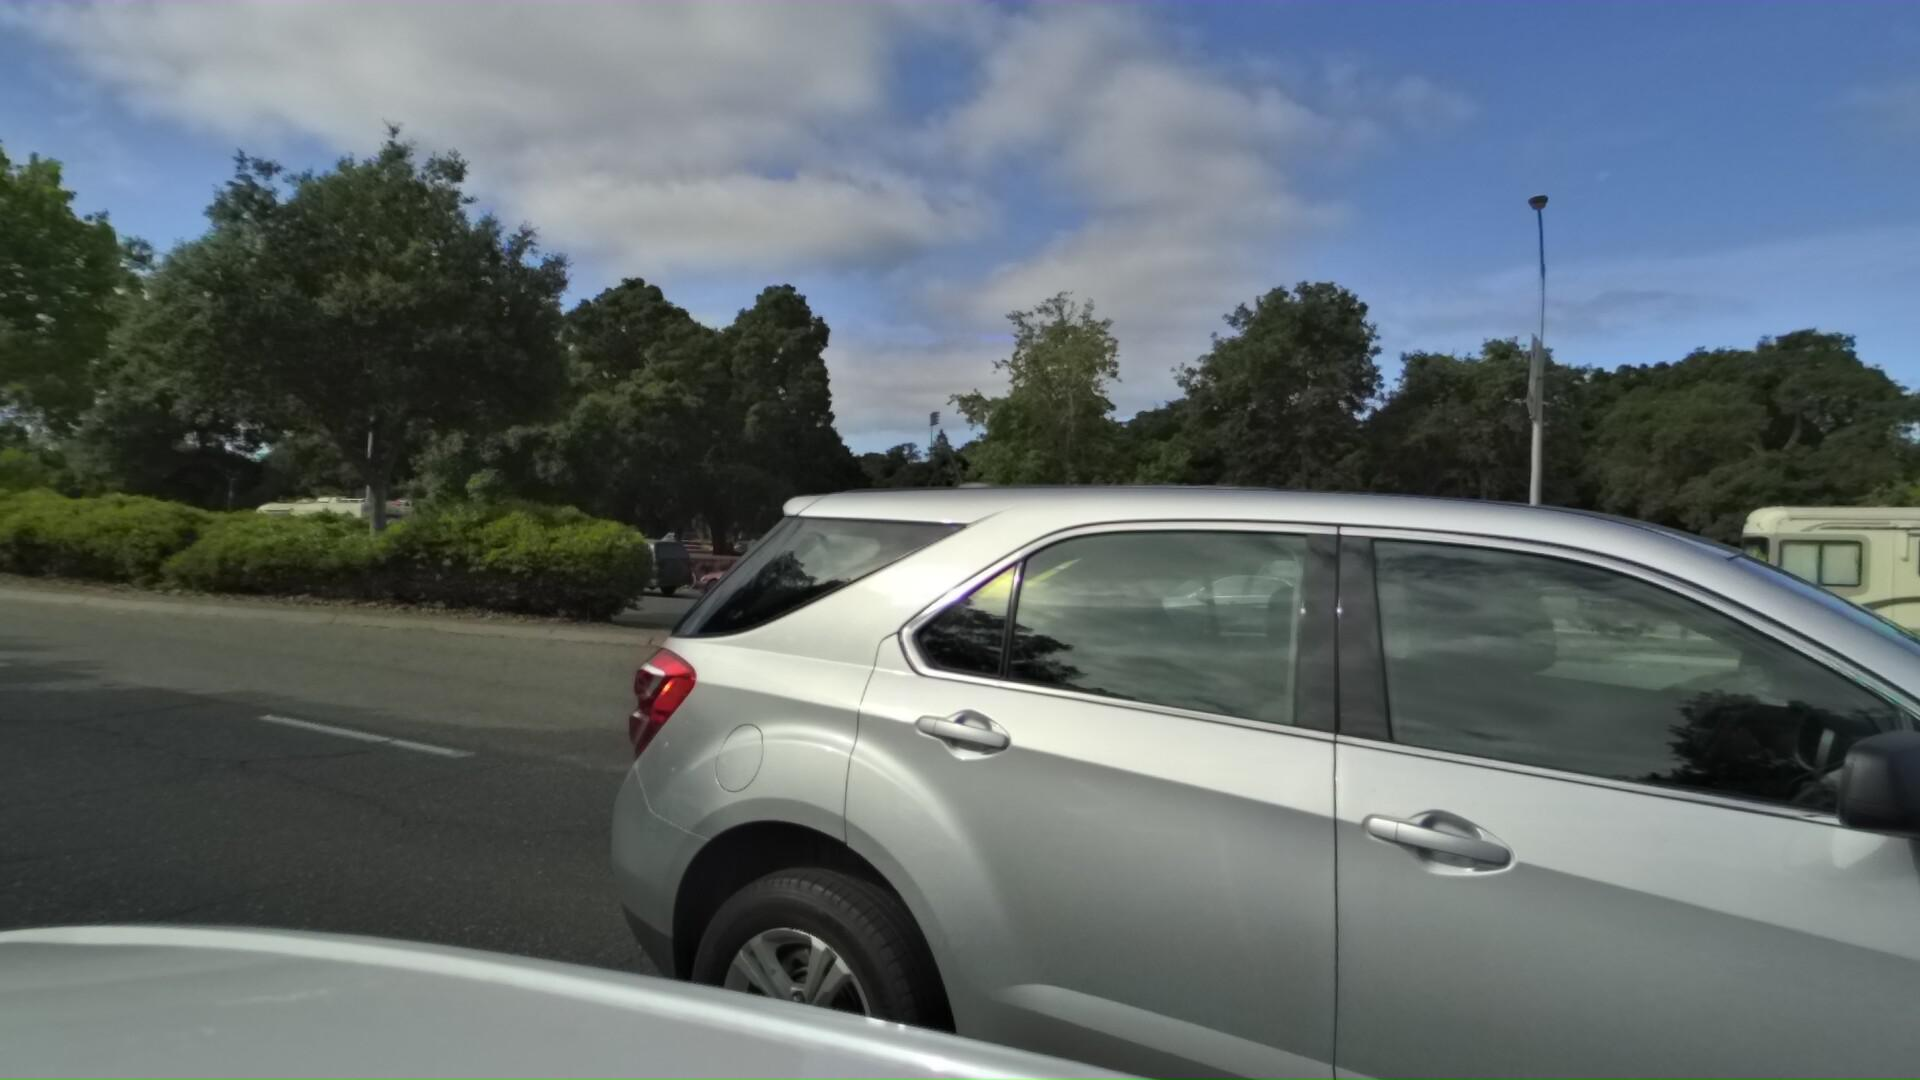car: (498, 293, 1920, 1080), (545, 531, 690, 597), (684, 554, 831, 609)
other_vehicle: (1695, 468, 1920, 736), (231, 492, 425, 579)
truck: (1189, 498, 1536, 662), (853, 502, 1149, 629)
